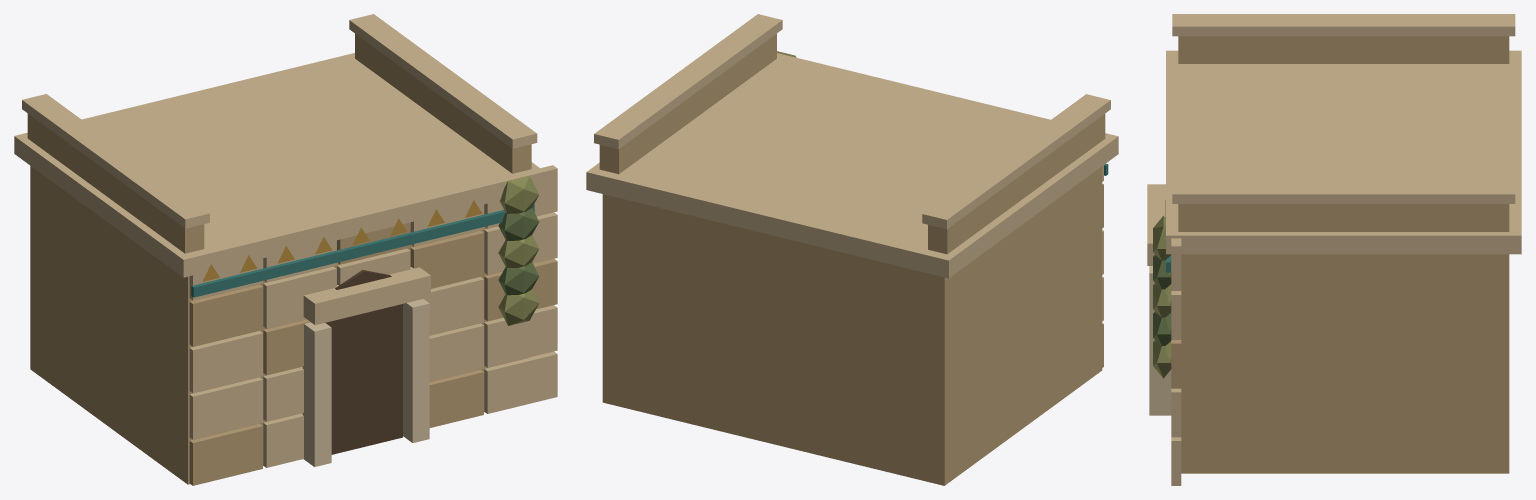
Rendered from house.glb.
3 renders of one model, left to right at view 1: azimuth 30°, elevation 25°; view 2: azimuth 150°, elevation 25°; view 3: azimuth 270°, elevation 25°, orthographic. The views are drawn at different scales.
Visible parts, largest first — view 1: house-surface, wind-leaf-0-surface, wind-leaf-4-surface, wind-leaf-3-surface, wind-leaf-2-surface, wind-leaf-1-surface; view 2: house-surface; view 3: house-surface, wind-leaf-4-surface, wind-leaf-3-surface, wind-leaf-2-surface, wind-leaf-0-surface, wind-leaf-1-surface.
Part boxes in pixels (x1,y1,x2,y2): house-surface: (14, 14, 557, 485); wind-leaf-0-surface: (499, 176, 539, 213); wind-leaf-4-surface: (498, 289, 539, 325); wind-leaf-3-surface: (498, 262, 539, 295); wind-leaf-2-surface: (498, 235, 538, 267); wind-leaf-1-surface: (498, 208, 539, 240); house-surface: (586, 14, 1118, 485); house-surface: (1147, 14, 1521, 485); wind-leaf-4-surface: (1153, 340, 1171, 378); wind-leaf-3-surface: (1153, 311, 1171, 345); wind-leaf-2-surface: (1153, 283, 1171, 317); wind-leaf-0-surface: (1153, 215, 1171, 260); wind-leaf-1-surface: (1153, 255, 1171, 289).
Bounding box in the file's own units: 5.53 × 3.77 × 4.53.
